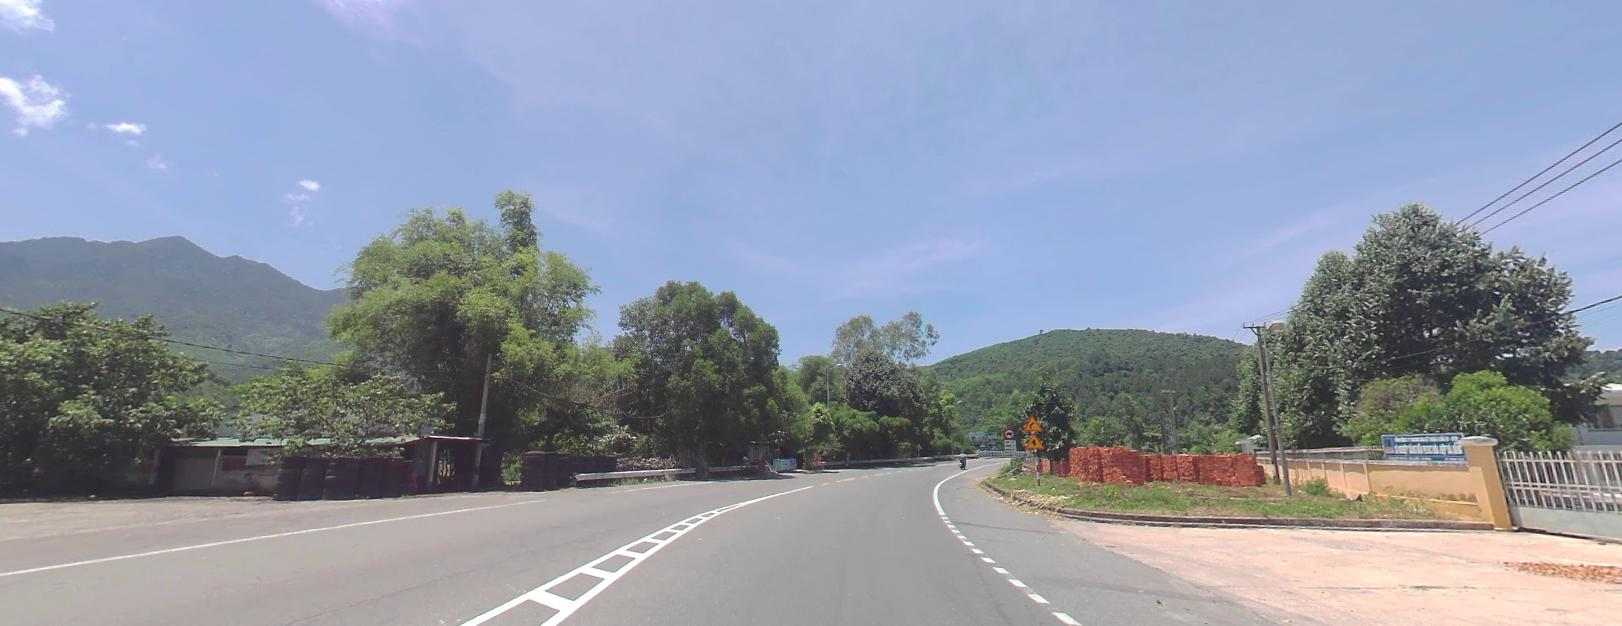Cam con lai: (1001, 427, 1015, 438)
Nguy hiem: (1023, 433, 1046, 449), (1021, 414, 1042, 431)
